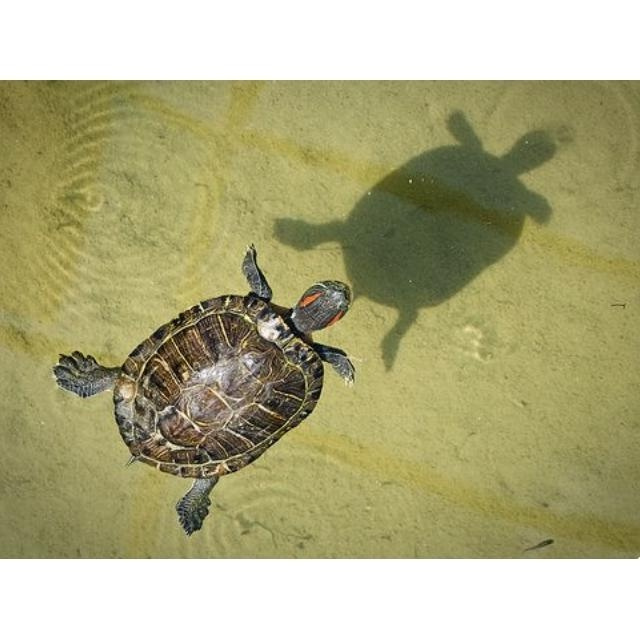turtle: (54, 244, 355, 536)
